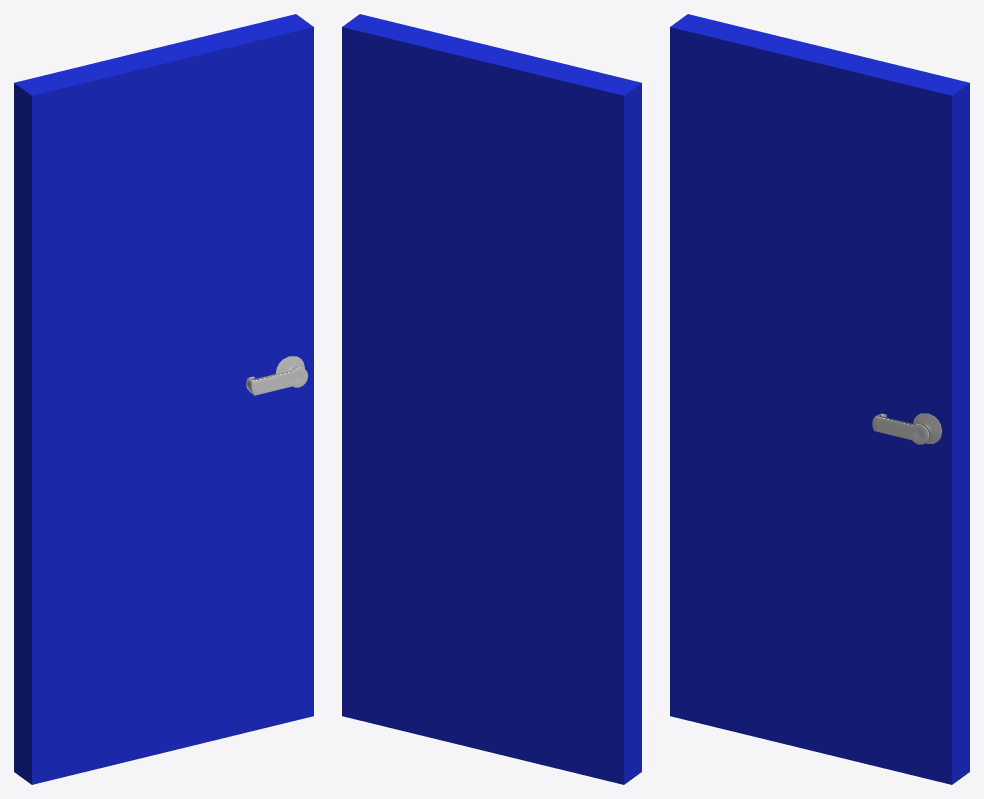
Rendered from Door.glb.
The picture shows the model from 3 angles, left to right: view 1: azimuth 30°, elevation 25°; view 2: azimuth 150°, elevation 25°; view 3: azimuth 330°, elevation 25°; orthographic projection.
Parts seen in each view (by area): view 1: Door; view 2: Door; view 3: Door.
Part boxes in pixels (bbox=[...]): Door: bbox=[14, 14, 313, 784]; Door: bbox=[342, 14, 641, 784]; Door: bbox=[670, 14, 969, 784].
Size of the model in its own units: 0.914 by 2.13 by 0.1529.
